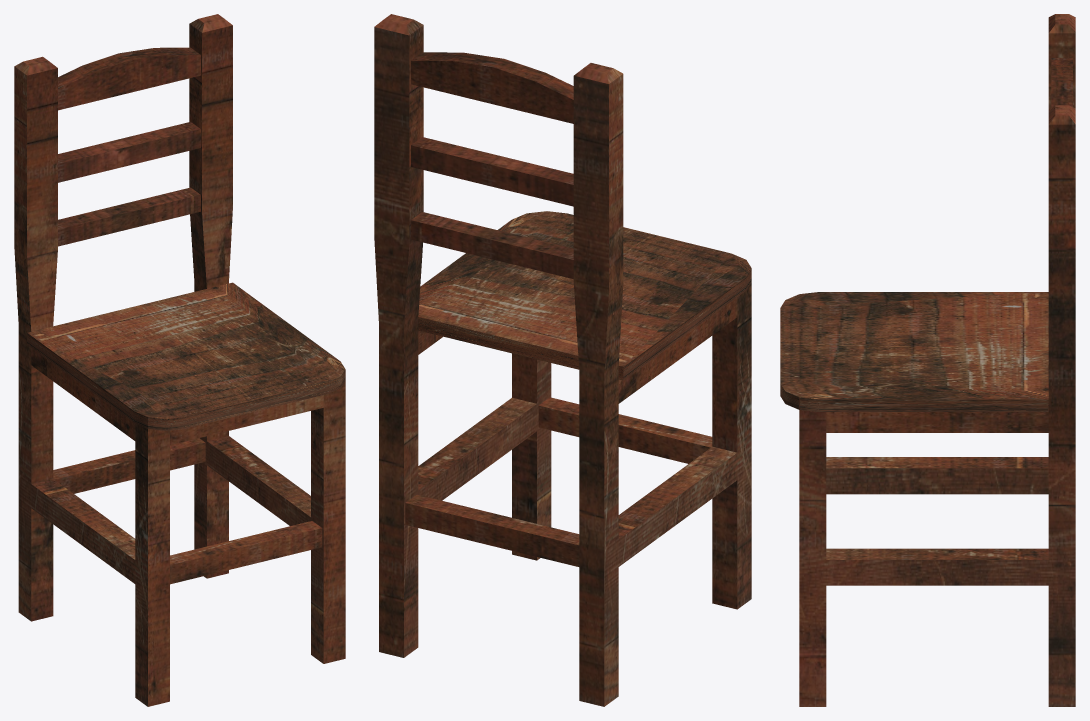
Rendered from Silla.fbx.
The picture shows the model from 3 angles, left to right: view 1: azimuth 30°, elevation 25°; view 2: azimuth 150°, elevation 25°; view 3: azimuth 270°, elevation 25°; orthographic projection. The views are drawn at different scales.
Parts seen in each view (by area): view 1: pCube5, pCube1; view 2: pCube5, pCube1; view 3: pCube5, pCube1.
Boxes of the visible parts, <box> form: pCube5: <box>14,14,345,706</box>; pCube1: <box>27,282,345,430</box>; pCube5: <box>374,14,751,706</box>; pCube1: <box>418,211,751,380</box>; pCube5: <box>799,14,1075,706</box>; pCube1: <box>780,292,1048,411</box>.
Size of the model in its own units: 2.1 by 5.39 by 2.44.
1 material, 1 textured.
